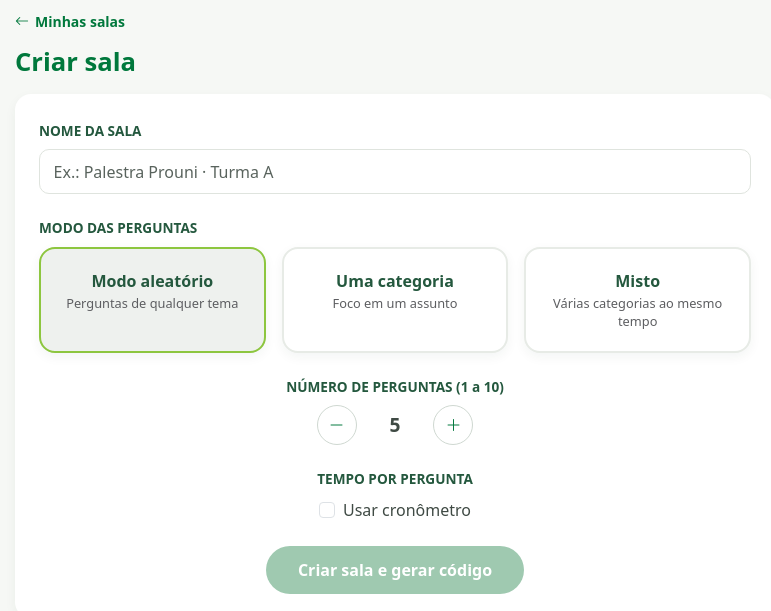
Scenario: PaginaModeradorCriarSala › só habilita a criação depois de dar um nome à sala
expect the button "Criar sala e gerar código" is disabled: met, box x1=266 y1=546 x2=524 y2=594
Step 1. Type "Turma A" into the field labelled "NOME DA SALA" → (395, 172), box x1=39 y1=149 x2=751 y2=194
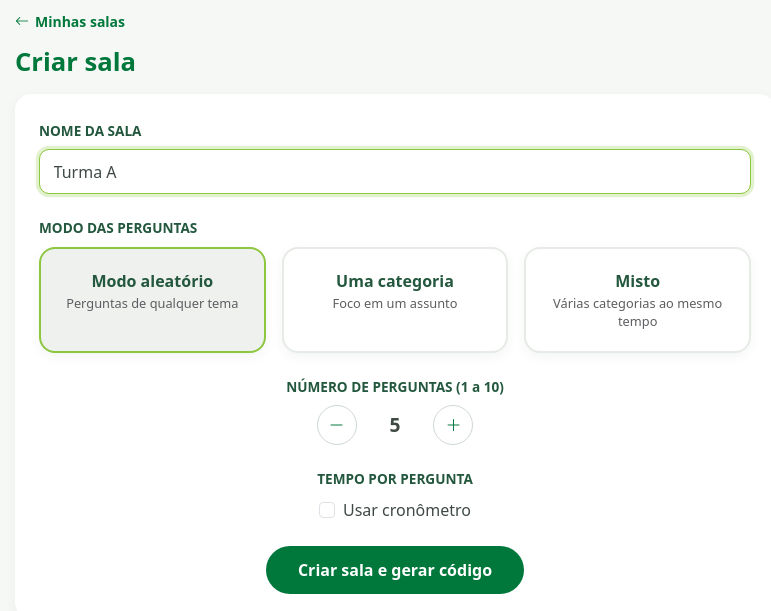
expect the button "Criar sala e gerar código" is enabled: met, box x1=266 y1=546 x2=524 y2=594
